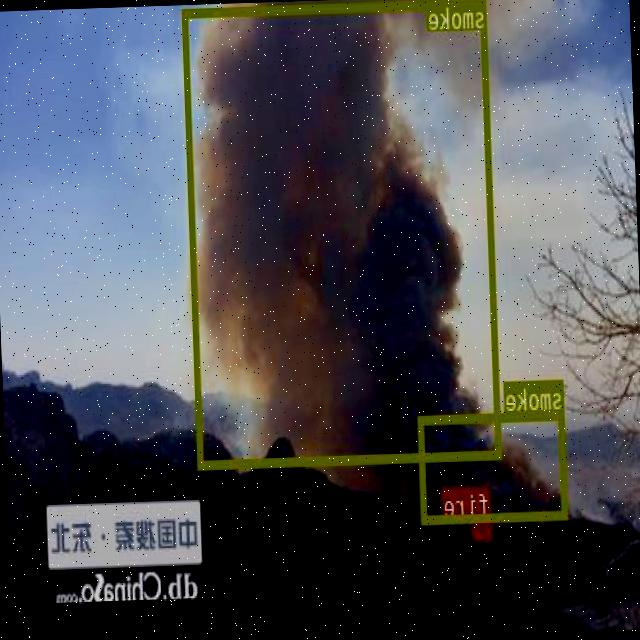fire: (474, 514, 493, 538)
smoke: (183, 0, 502, 468), (418, 409, 569, 522)
